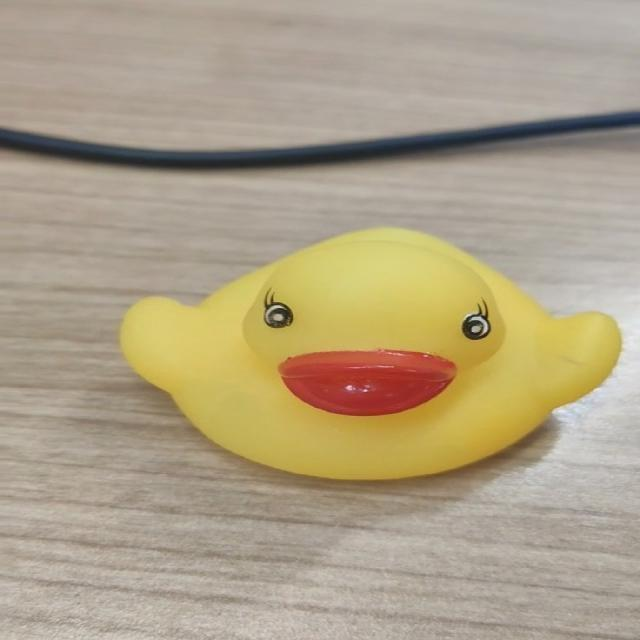rubber-duck: (119, 227, 619, 477)
